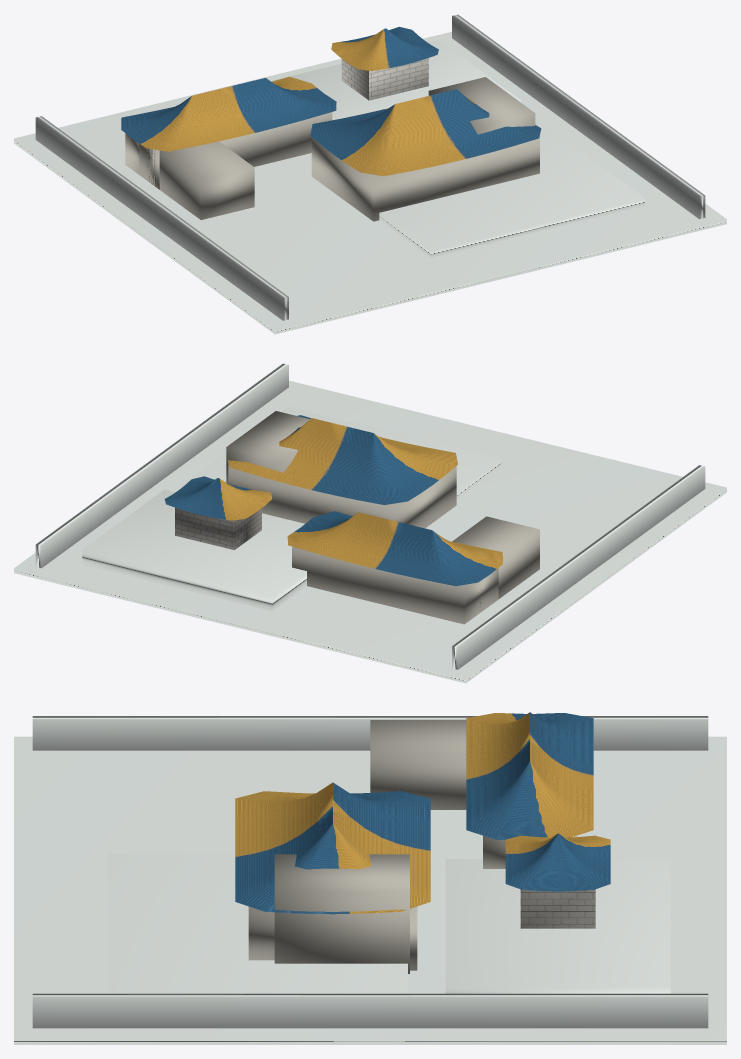
3 renders of one model, top to bottom at view 1: azimuth 30°, elevation 25°; view 2: azimuth 150°, elevation 25°; view 3: azimuth 270°, elevation 25°, orthographic. The views are drawn at different scales.
Visible parts, largest first — view 1: baekinje_ground_lod2, baekinje_roofs_lod2, baekinje_buildings_lod2; view 2: baekinje_ground_lod2, baekinje_roofs_lod2, baekinje_buildings_lod2; view 3: baekinje_ground_lod2, baekinje_roofs_lod2, baekinje_buildings_lod2.
Boxes of the visible parts, left/top/right/bottom form: baekinje_ground_lod2: left=14, top=14, right=726, bottom=334; baekinje_roofs_lod2: left=121, top=26, right=541, bottom=176; baekinje_buildings_lod2: left=125, top=58, right=539, bottom=221; baekinje_ground_lod2: left=14, top=363, right=726, bottom=683; baekinje_roofs_lod2: left=164, top=415, right=502, bottom=586; baekinje_buildings_lod2: left=175, top=411, right=539, bottom=624; baekinje_ground_lod2: left=14, top=716, right=726, bottom=1044; baekinje_roofs_lod2: left=235, top=712, right=610, bottom=914; baekinje_buildings_lod2: left=248, top=720, right=595, bottom=973.
Bounding box in the file's own units: 38 × 7 × 38.
Materials: 3 (3 with a texture image).
